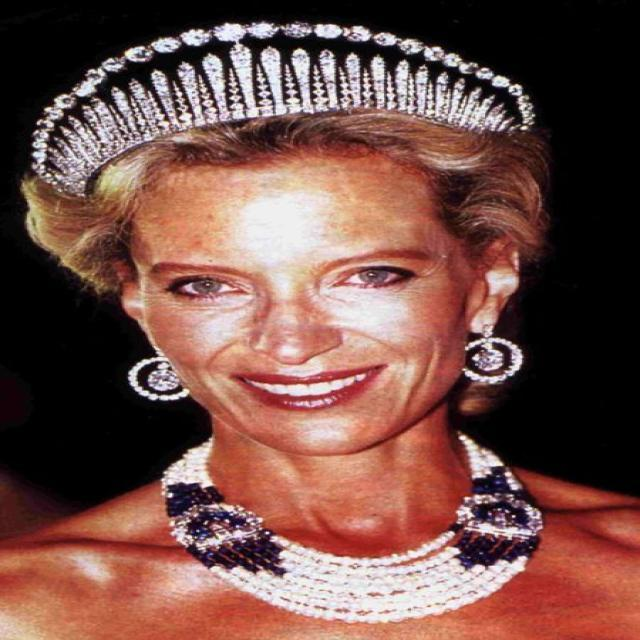Earring: (458, 295, 529, 399), (120, 326, 198, 409)
